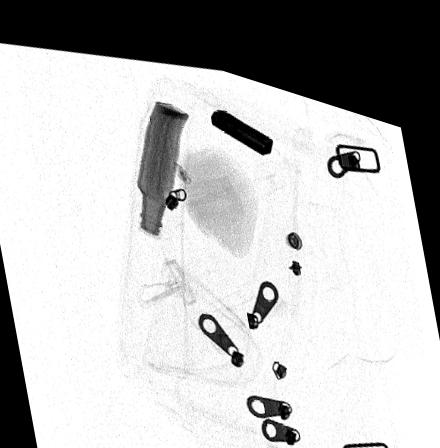Lighter: (208, 96, 273, 139)
